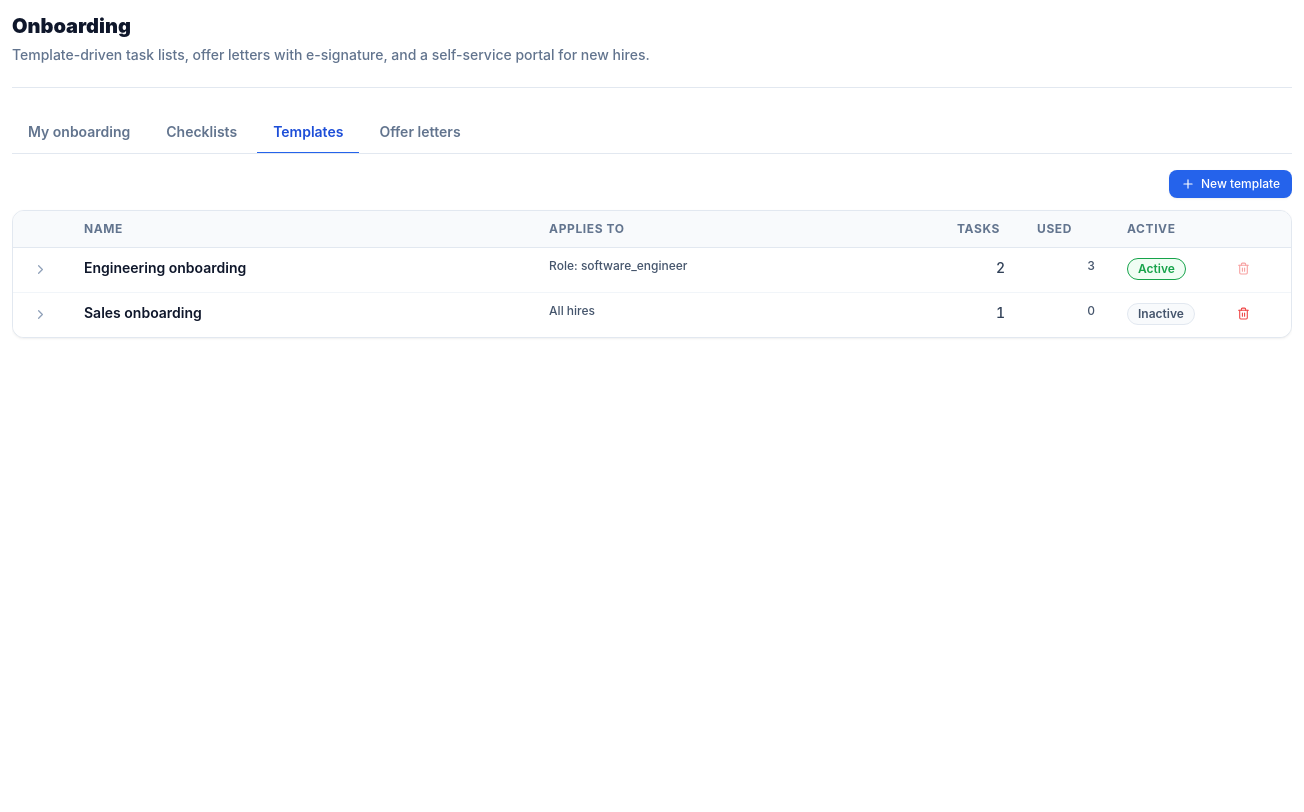
Test: templates › the last task row cannot be removed
What coordinates should you click on to do the following:
click the button "New template"
I would click on:
 (1230, 184)
Its box is [1169,170,1292,198].
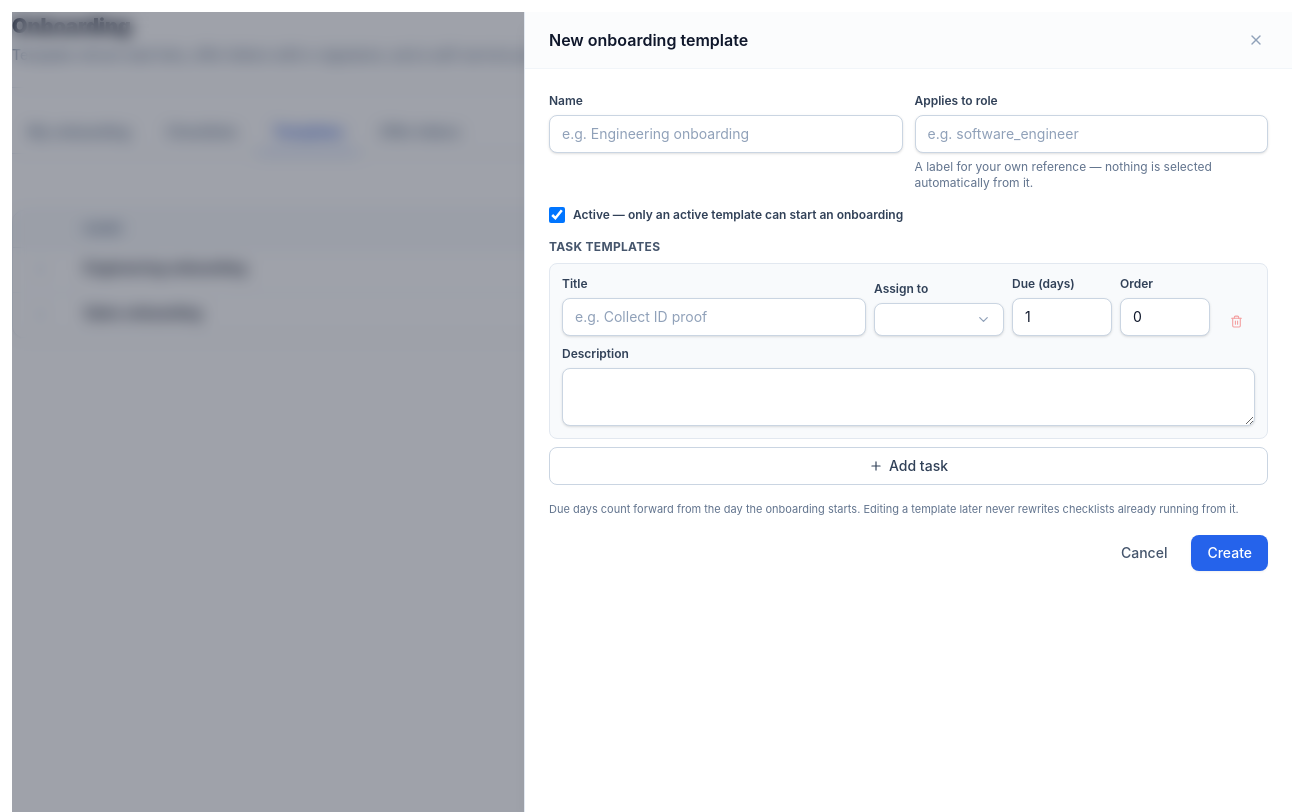
expect the button named "Remove task 1" is disabled: met, box [1218,309,1255,334]
What coordinates should you click on to do the following:
click the button "Add task"
I would click on:
 (908, 466)
Its box is [549,447,1268,485].
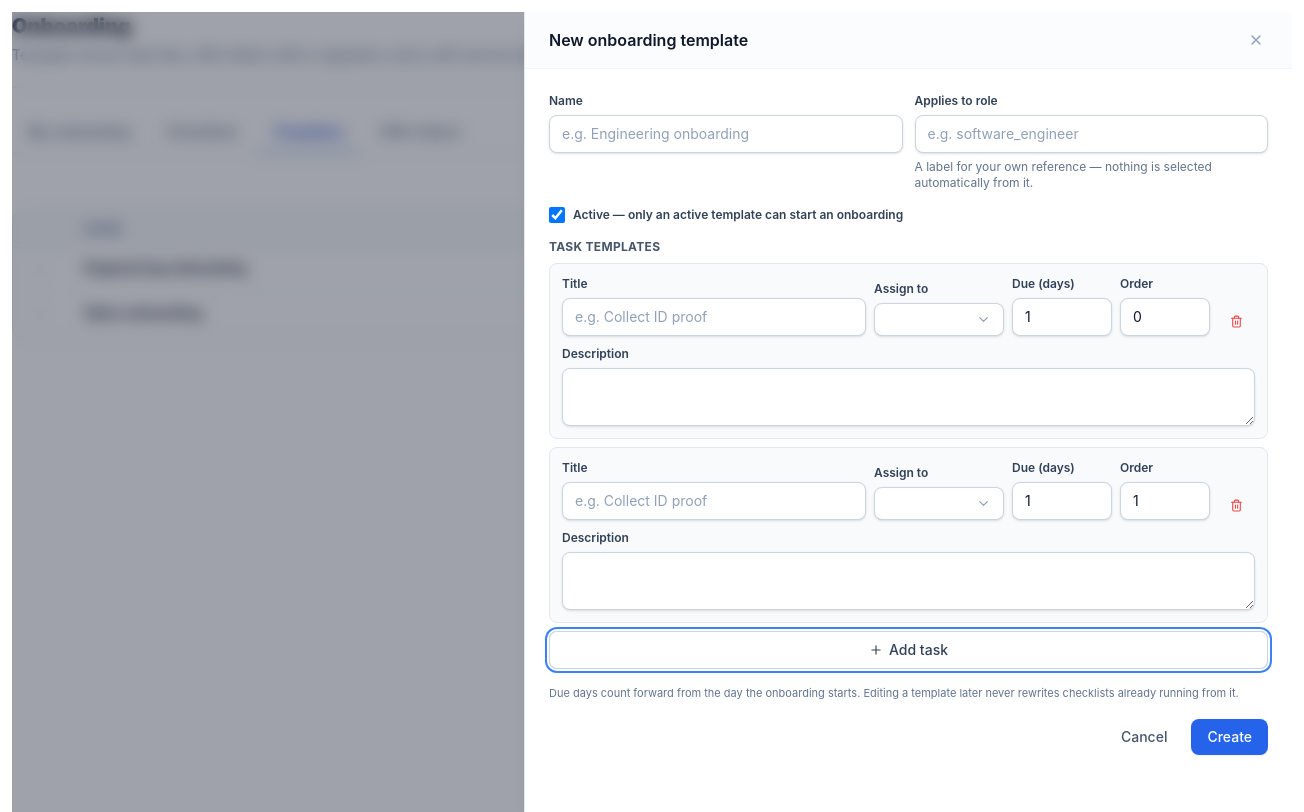
expect the button named "Remove task 1" is enabled: met, box [1218,309,1255,334]
